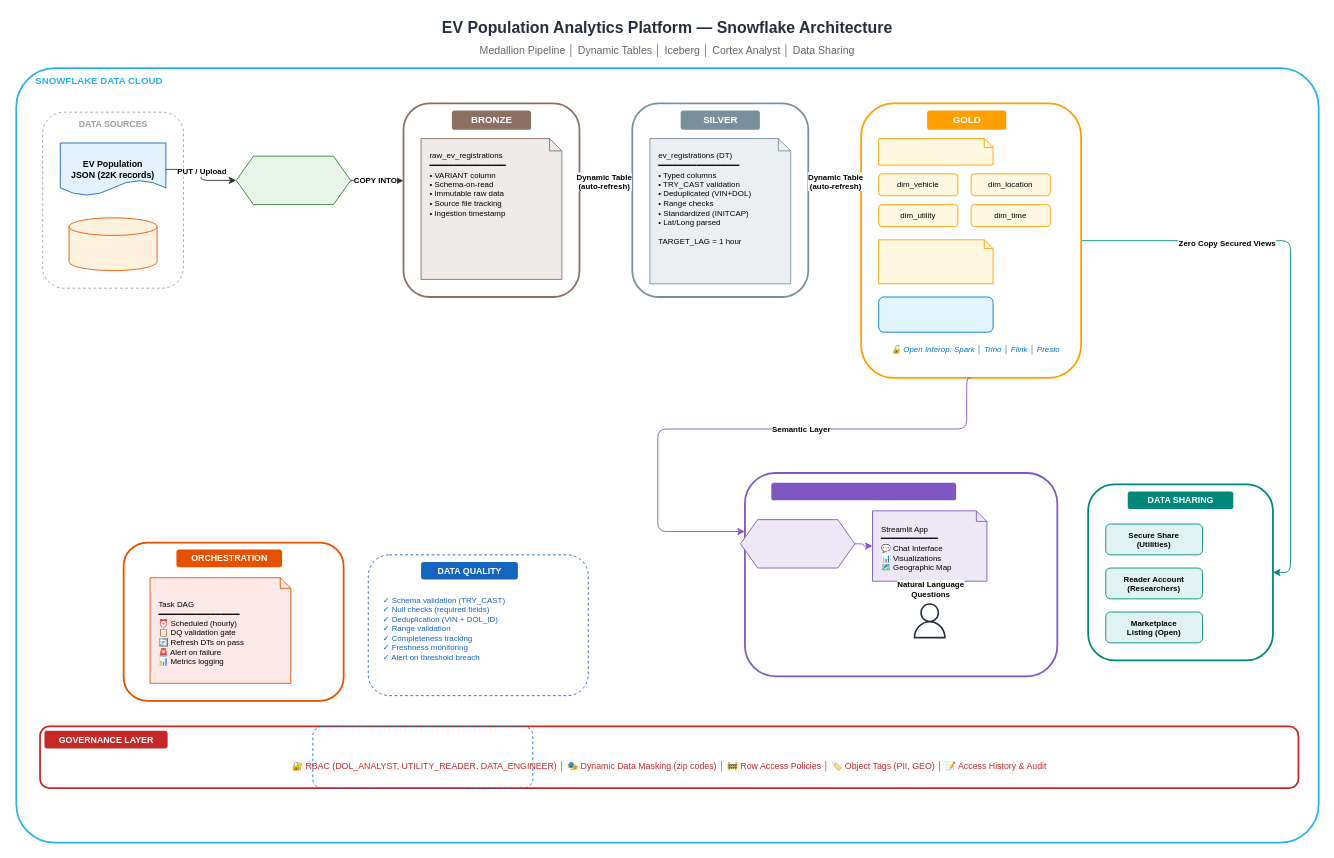
Some shapes in this 1334 by 858 pixel diagram are drawn without their labels. The shapes that lost their labels are listed below. From the top down, each one's centre as x and y in pixels, then its label:
the point at 935,151: fact_ev_registrations
the point at 293,180: Internal Stage (@ev_stage)
the point at 112,244: PostgreSQL (CDC Bonus)
the point at 935,261: agg_county_trends agg_make_share agg_utility_demand
the point at 935,314: 🧊 ICEBERG TABLE (Open Format)
the point at 863,491: CONVERSATIONAL ANALYTICS
the point at 797,543: Cortex Analyst Semantic Model (YAML)
the point at 929,620: DOL Analyst / Legislator
